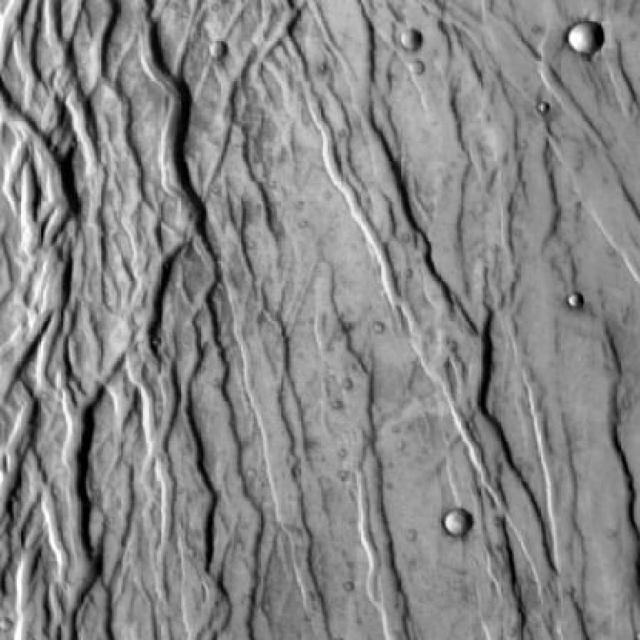crater: (569, 20, 606, 54), (445, 513, 470, 536), (403, 31, 423, 49), (209, 37, 226, 54)
